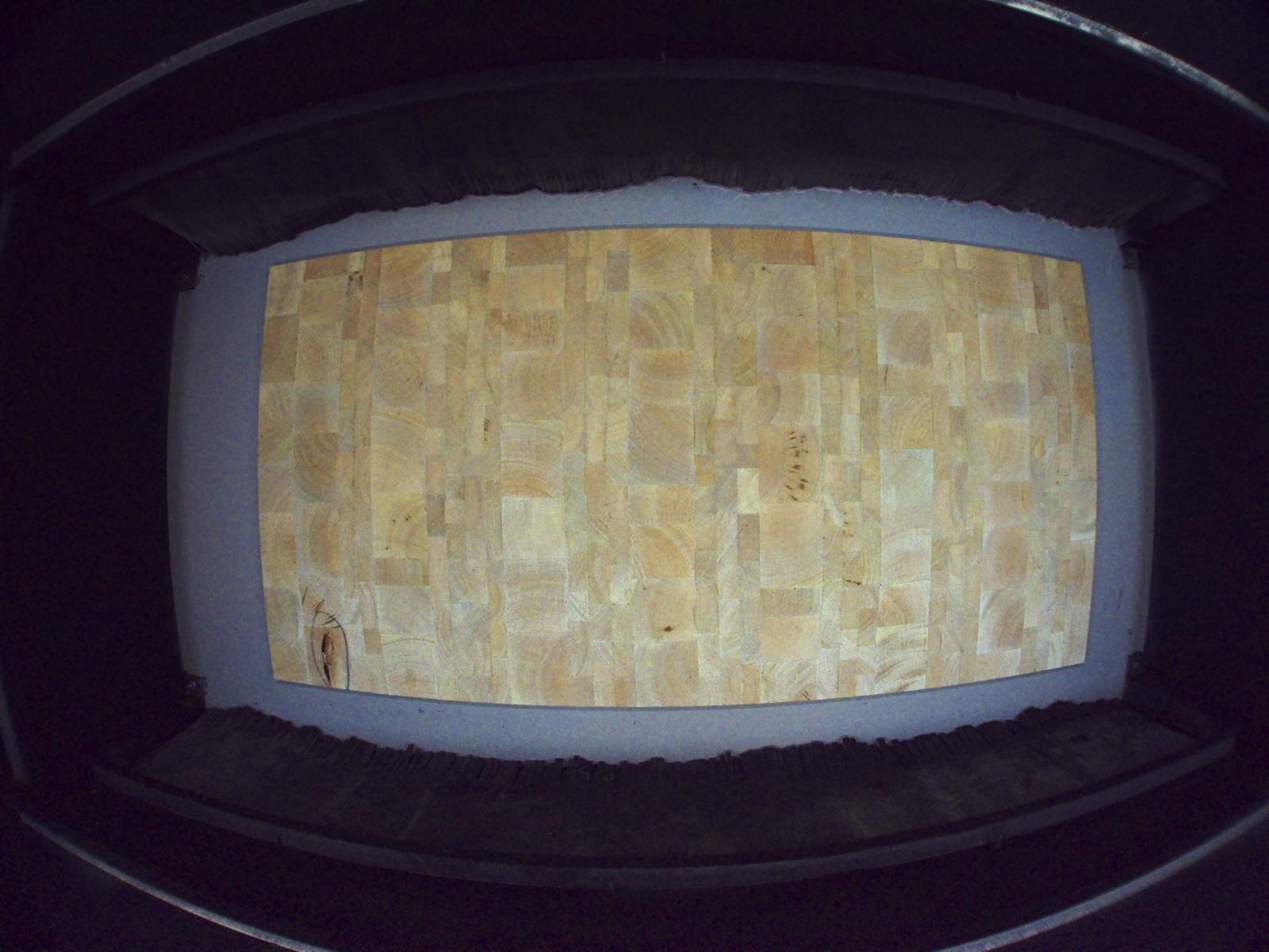nudillo: (317, 627, 340, 689)
